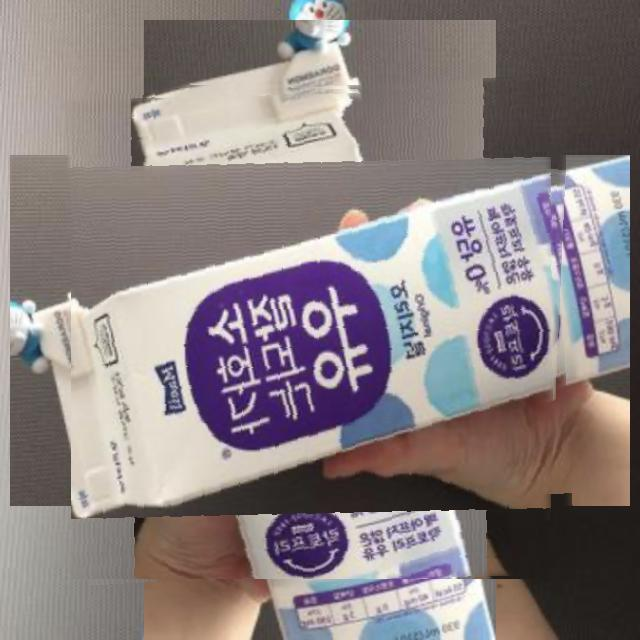biodegradable: (71, 81, 569, 579)
